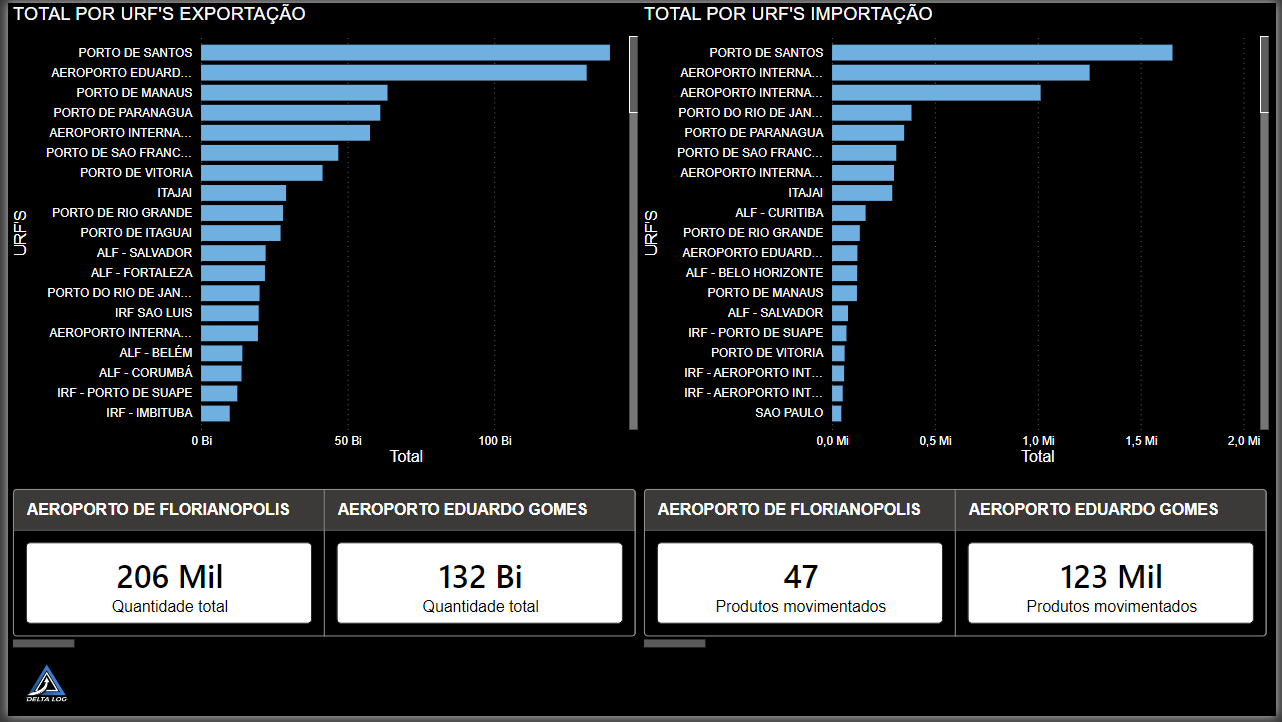

The dashboard page shown, as its layout file describes it:
{"tool":"powerbi","page":{"name":"URF'S","canvas":[1280,720],"ordinal":2},"visuals":[{"type":"barChart","title":"TOTAL POR URF''S EXPORTAÇÃO","fields":{"Category":["exp_final (2).NO_URF"],"Y":["Sum(exp_final (2).QT_ESTAT)"]},"box":[0,0,640.6,472],"z":1000},{"type":"barChart","title":"TOTAL POR URF''S IMPORTAÇÃO","fields":{"Category":["imp_final.NO_URF"],"Y":["CountNonNull(imp_final.QT_ESTAT)"]},"box":[637.8,0,640.6,472],"z":2000},{"type":"cardVisual","fields":{"Rows":["imp_final.NO_URF"],"Data":["CountNonNull(imp_final.QT_ESTAT)"]},"box":[637.8,486.1,640.6,172.9],"z":3000},{"type":"image","box":[0,659.1,78,60.9],"z":4000},{"type":"cardVisual","fields":{"Rows":["exp_final (2).NO_URF"],"Data":["Sum(exp_final (2).QT_ESTAT)"]},"box":[0,486.1,640.6,172.9],"z":4001}]}

Visuals, with their boxes in screenshot pixels (x1, y1, x2, y2), scaled from the page's 1280x720 canvas onto the 1282x722 screenshot:
"TOTAL POR URF''S EXPORTAÇÃO" barChart: (0,0,642,473)
"TOTAL POR URF''S IMPORTAÇÃO" barChart: (639,0,1280,473)
cardVisual - imp_final.NO_URF x CountNonNull(imp_final.QT_ESTAT): (639,487,1280,661)
image: (0,661,78,721)
cardVisual - exp_final (2).NO_URF x Sum(exp_final (2).QT_ESTAT): (0,487,642,661)
